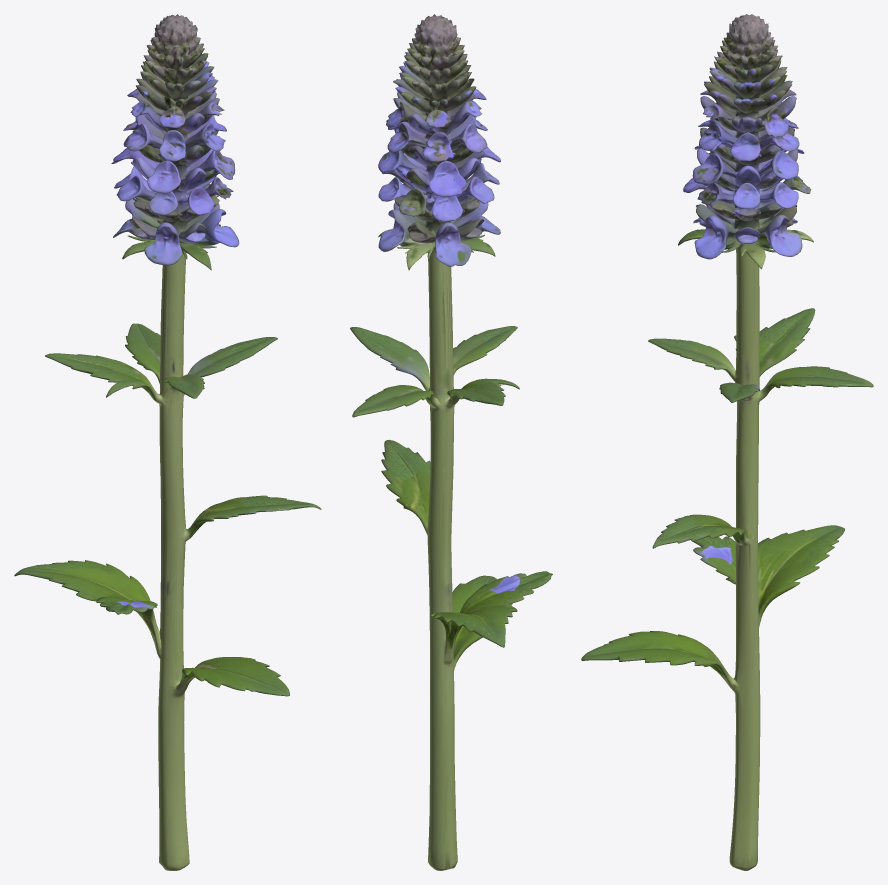
The model's file is xiangqinglan.glb.
The picture shows the model from 3 angles, left to right: view 1: azimuth 30°, elevation 25°; view 2: azimuth 150°, elevation 25°; view 3: azimuth 270°, elevation 25°; orthographic projection.
Parts seen in each view (by area): view 1: node_0; view 2: node_0; view 3: node_0.
Boxes of the visible parts, left/top/right/bottom form: node_0: left=14, top=14, right=321, bottom=870; node_0: left=350, top=14, right=552, bottom=870; node_0: left=581, top=14, right=873, bottom=870.
Bounding box in the file's own units: 0.315 × 1.2 × 0.3724.
Materials: 1 (1 with a texture image).
